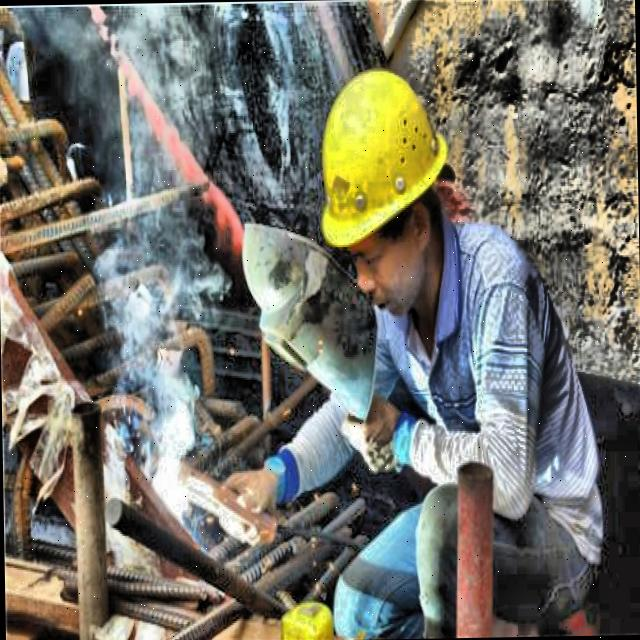helmet: (302, 70, 451, 319)
